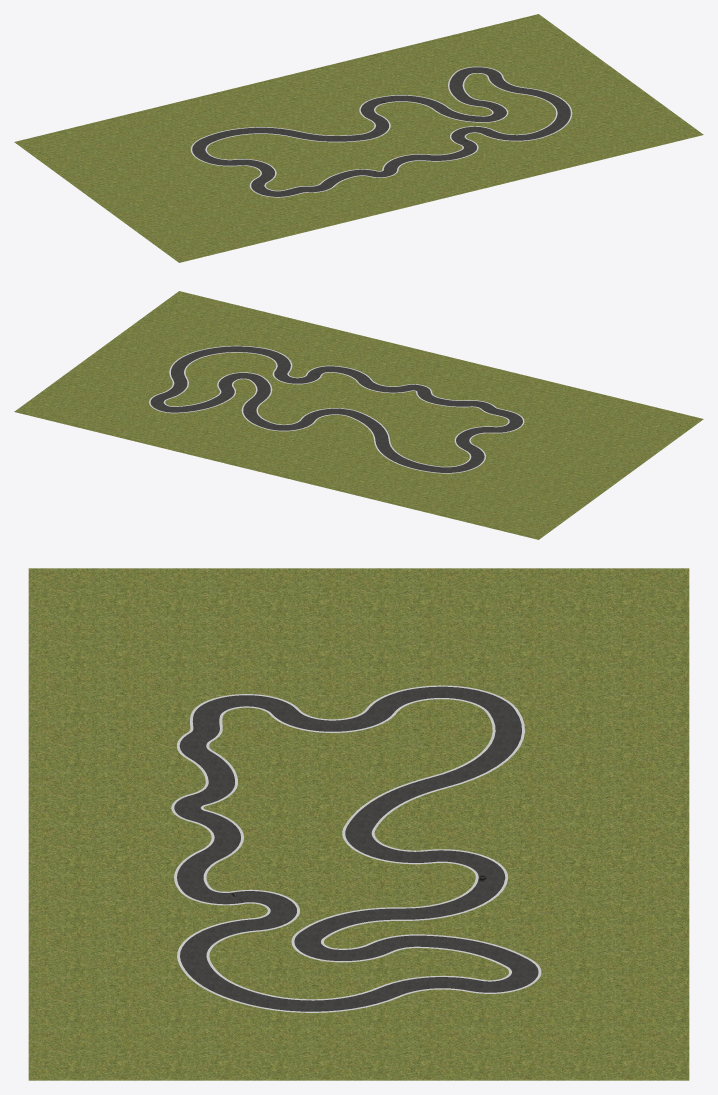
The model's file is track12.dae.
3 renders of one model, top to bottom at view 1: azimuth 30°, elevation 25°; view 2: azimuth 150°, elevation 25°; view 3: azimuth 270°, elevation 25°, orthographic. The views are drawn at different scales.
Parts seen in each view (by area): view 1: field, road, outerline, innerline; view 2: field, road, outerline, innerline; view 3: field, road, outerline, innerline.
Part boxes in pixels (x1,y1,x2,y2): field: (14, 14, 703, 262); road: (192, 67, 570, 196); outerline: (190, 66, 572, 197); innerline: (205, 73, 557, 191); field: (14, 291, 703, 539); road: (150, 346, 522, 472); outerline: (149, 345, 524, 473); innerline: (163, 352, 509, 467); field: (28, 568, 689, 1080); road: (174, 686, 538, 1011); outerline: (171, 685, 541, 1012); innerline: (200, 698, 511, 1000).
Bounding box in the file's own units: 74.83 × 40.8 × 0.01.
Materials: 3 (3 with a texture image).
